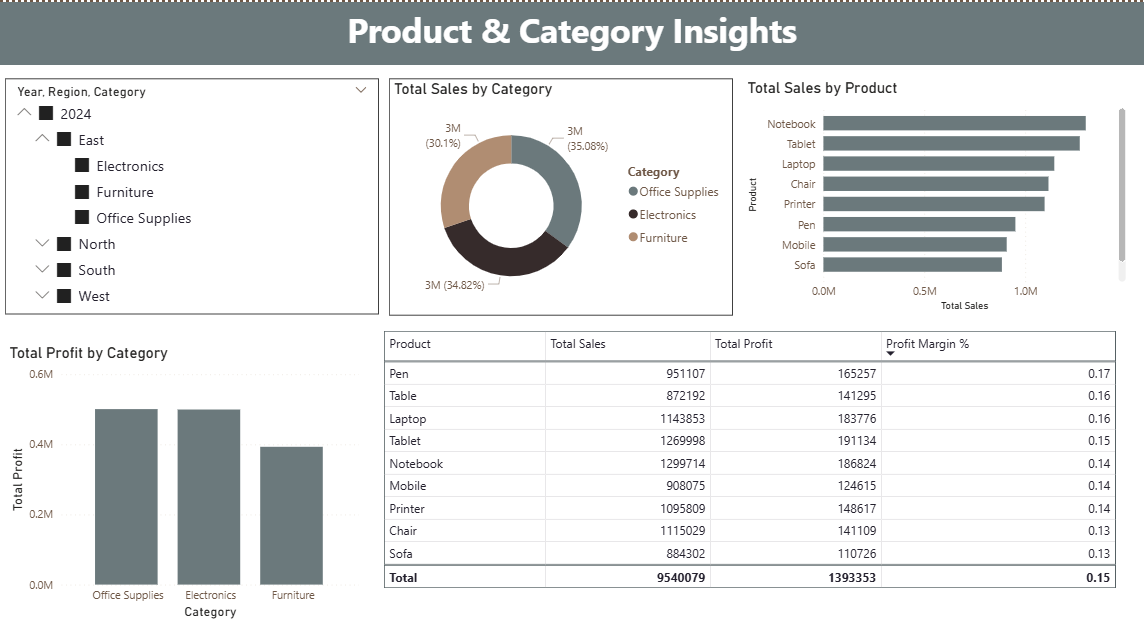

Layout of this report page (visuals, bound fields, positions):
{"tool":"powerbi","page":{"name":"Page 3","canvas":[1280,720],"ordinal":2},"visuals":[{"type":"textbox","box":[9.7,0,1250,63.1],"z":0},{"type":"clusteredBarChart","fields":{"Category":["Sales_Data.Product"],"Y":["Sales_Data.Total Sales"]},"box":[0,85.8,367.6,247.7],"z":1000},{"type":"clusteredColumnChart","fields":{"Category":["Sales_Data.Category"],"Y":["Sales_Data.Total Profit"]},"box":[9.7,391.9,377.3,297.9],"z":2000},{"type":"tableEx","fields":{"Values":["Sales_Data.Product","Sales_Data.Total Sales","Sales_Data.Total Profit","Sales_Data.Profit Margin %"]},"box":[424.2,374,835.5,333.6],"z":3000},{"type":"donutChart","fields":{"Category":["Sales_Data.Category"],"Y":["Sales_Data.Total Sales"]},"box":[387,85.8,393.5,262.3],"z":4000},{"type":"slicer","fields":{"Values":["Sales_Data.Year","Sales_Data.Region","Sales_Data.Category"]},"box":[809.6,69.6,450.1,208.9],"z":5000}]}

Visuals, with their boxes in screenshot pixels (x1, y1, x2, y2), scaled from the page's 1280x720 canvas onto the 1144x631 screenshot:
textbox: <bbox>9, 0, 1126, 55</bbox>
clusteredBarChart - Sales_Data.Product x Sales_Data.Total Sales: <bbox>0, 75, 329, 292</bbox>
clusteredColumnChart - Sales_Data.Category x Sales_Data.Total Profit: <bbox>9, 343, 346, 605</bbox>
tableEx - Sales_Data.Product x Sales_Data.Total Sales: <bbox>379, 328, 1126, 620</bbox>
donutChart - Sales_Data.Category x Sales_Data.Total Sales: <bbox>346, 75, 698, 305</bbox>
slicer - Sales_Data.Year x Sales_Data.Region: <bbox>724, 61, 1126, 244</bbox>
